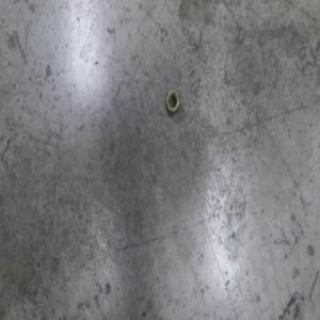Nuttrack_idkeyframe: (164, 86, 180, 117)
